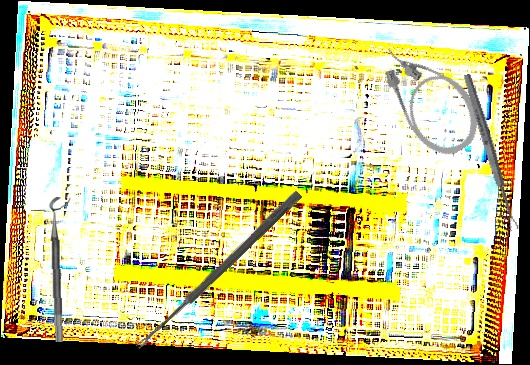Cannula: (369, 25, 491, 167)
Fixation Ring: (48, 196, 77, 342)
Surgical Spoon: (134, 189, 303, 352), (461, 72, 520, 233)
